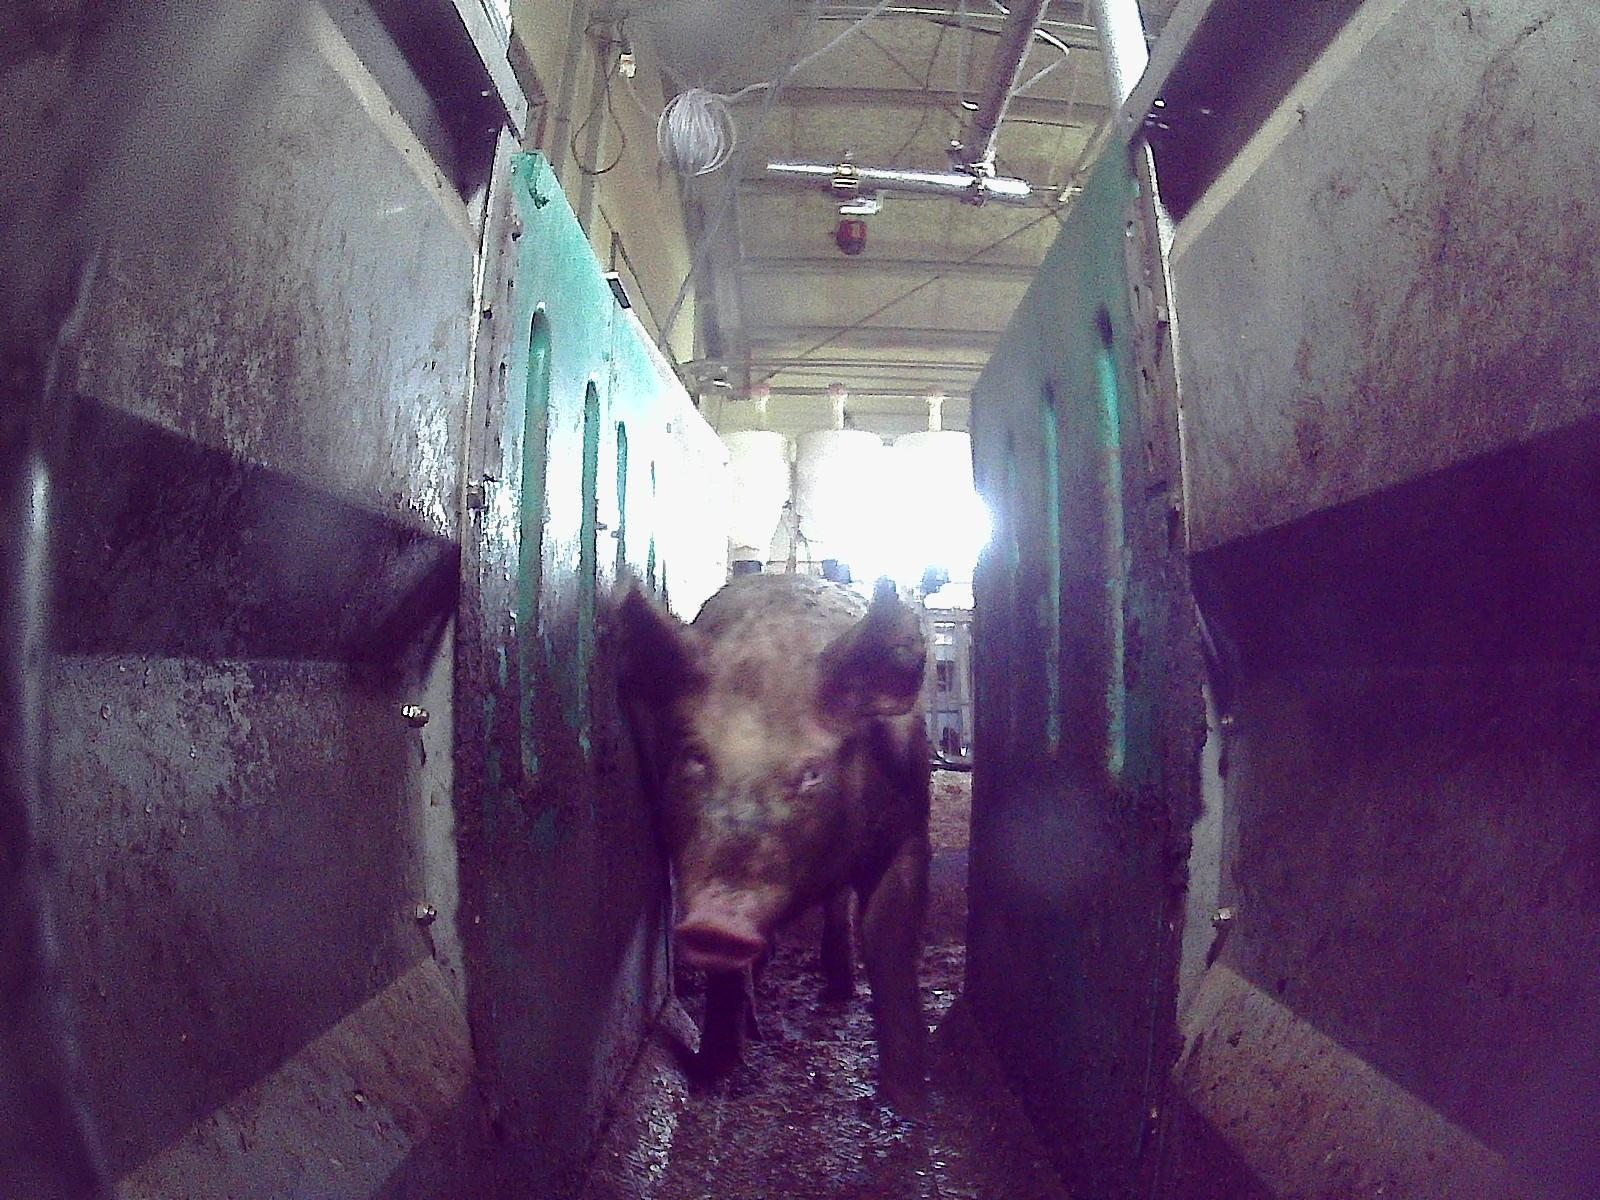Face: (665, 648, 859, 970)
